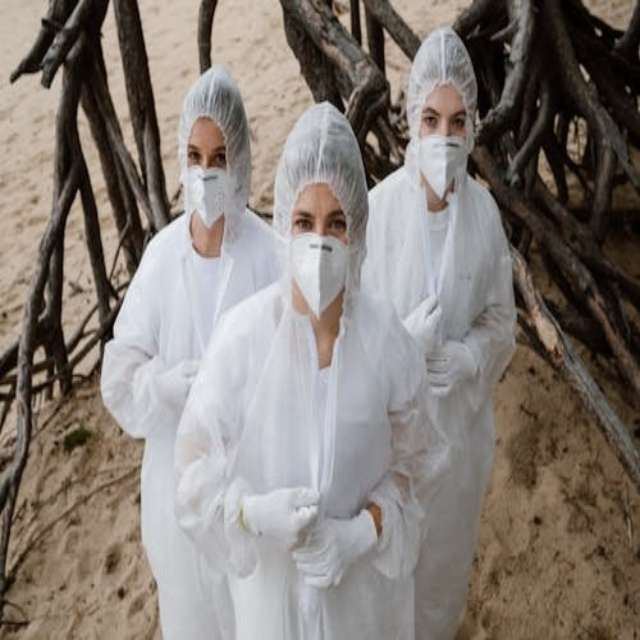Guantes: (296, 498, 379, 592), (239, 482, 325, 554), (424, 334, 479, 406), (148, 348, 202, 409), (401, 286, 445, 357)
Mascara: (289, 233, 348, 319), (415, 134, 468, 202), (184, 164, 236, 228)
Sin_gafas: (291, 202, 347, 242), (424, 100, 468, 140), (187, 140, 228, 167)
